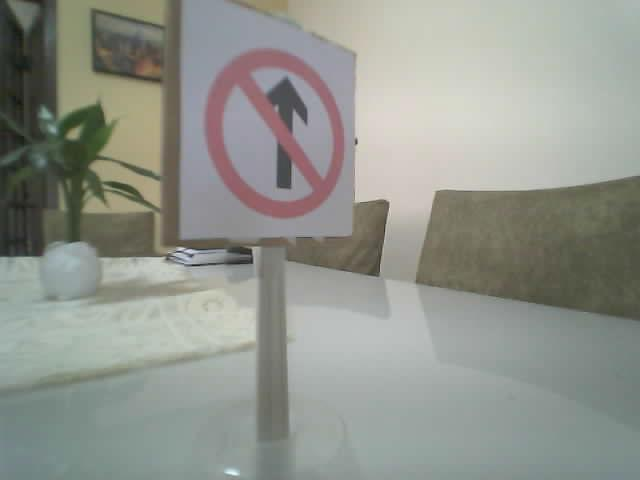R-3_sentido-proibido: (205, 46, 345, 219)
